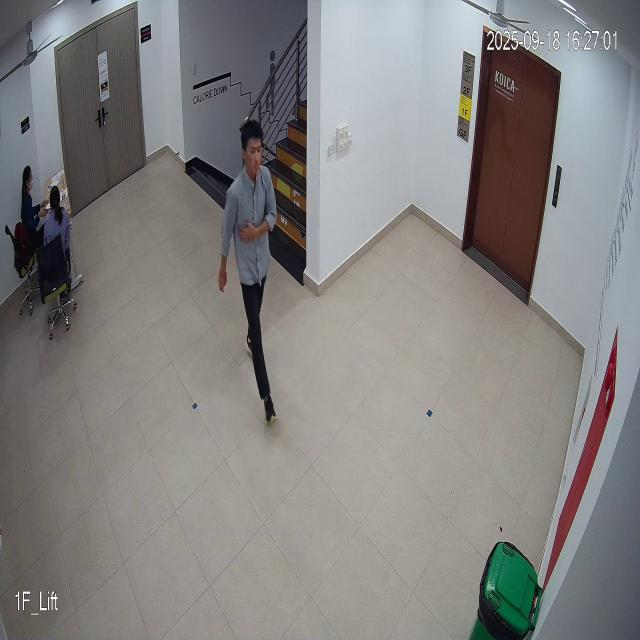face: (236, 113, 264, 182)
